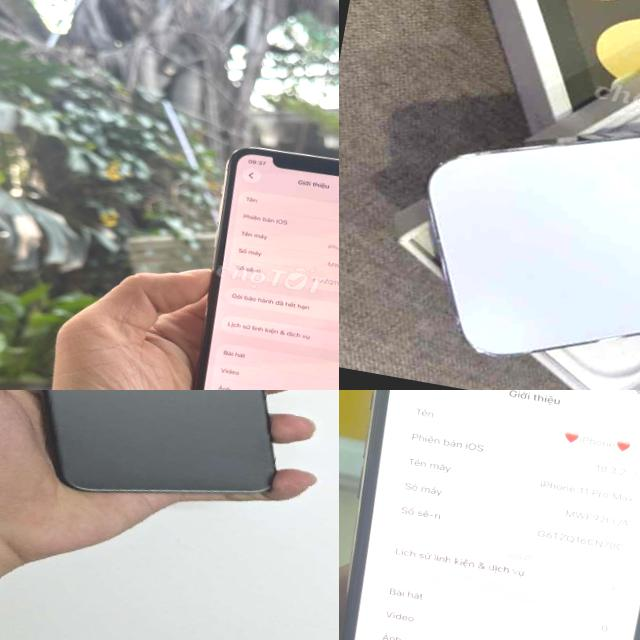gen_11: (339, 390, 640, 640), (180, 136, 339, 390), (41, 390, 274, 492)
gen_14: (353, 19, 640, 390)
